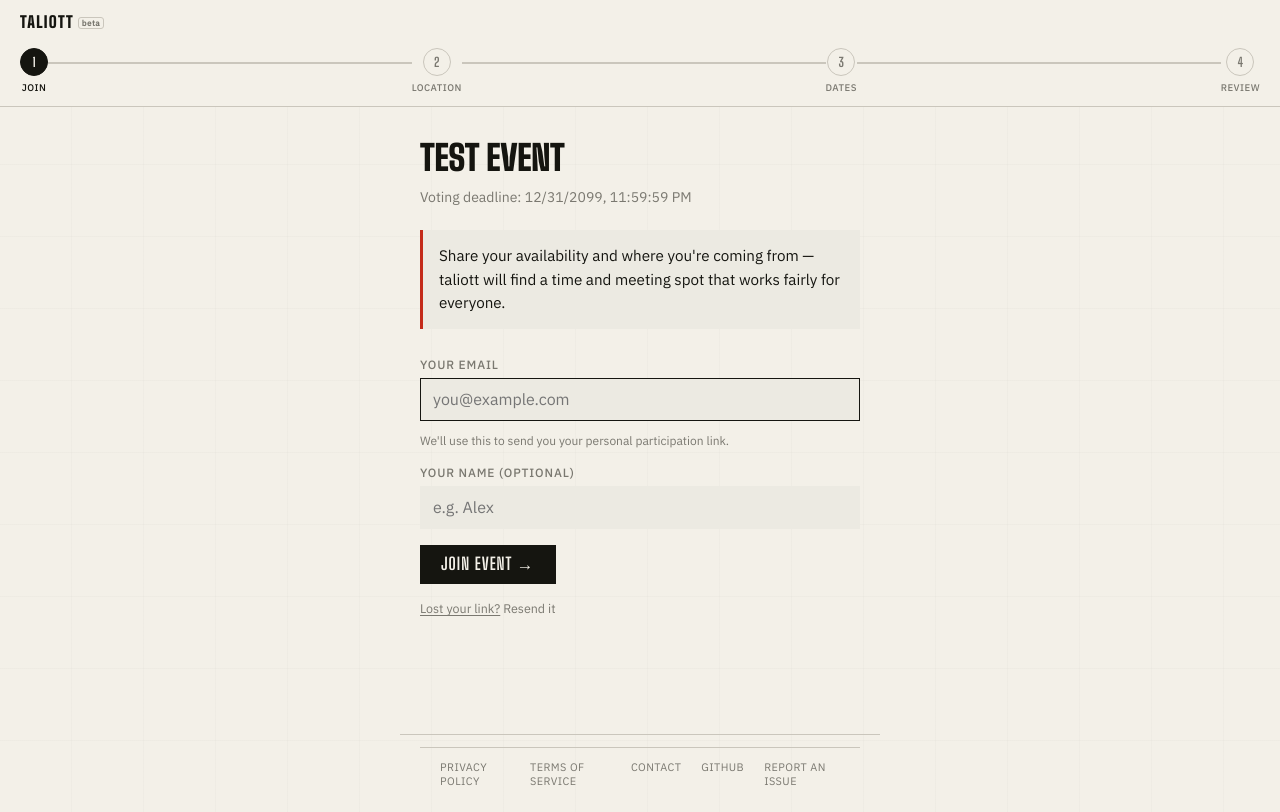
it: JoinView › shows field error when POST returns 400
Type "test@example.com" into the field labelled "Your email".
click(640, 399); type("test@example.com")  # box x1=420 y1=378 x2=860 y2=421
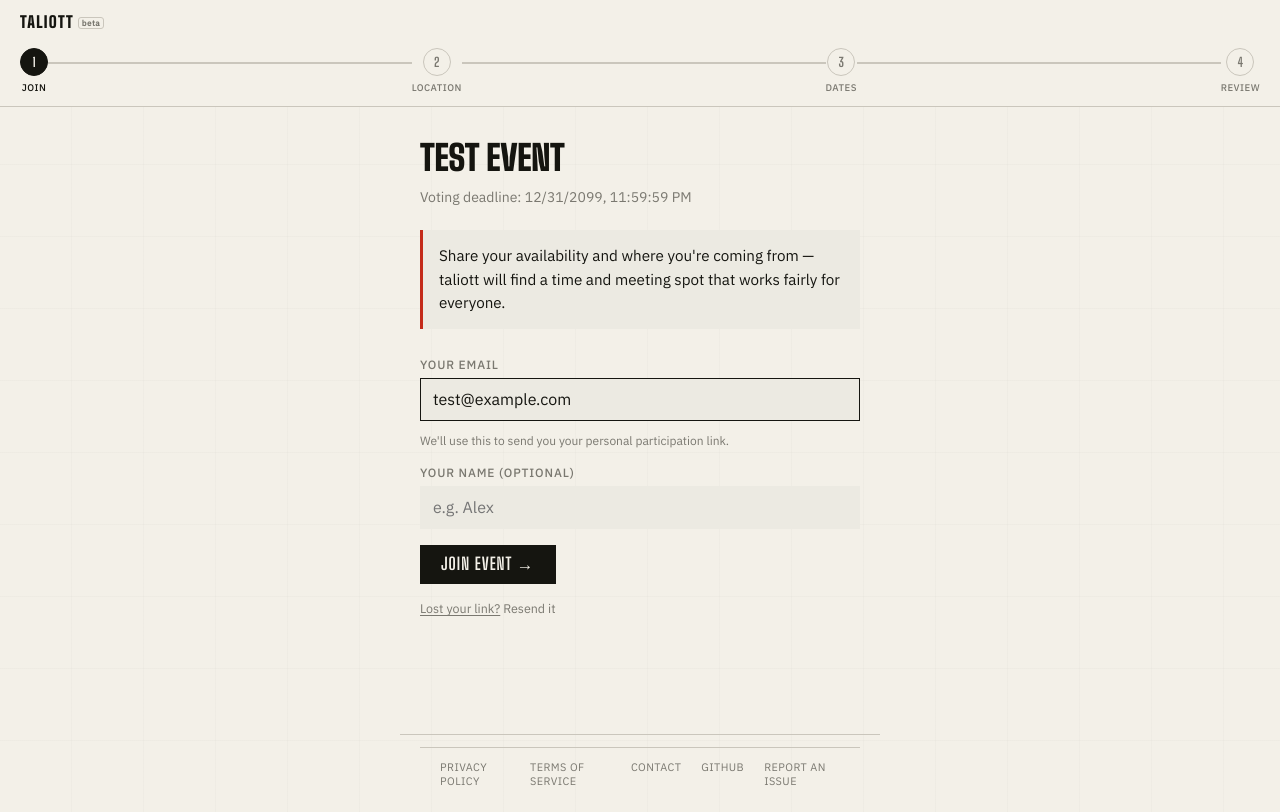
Click the button "Join event →".
click(488, 565)  # box x1=420 y1=545 x2=556 y2=584
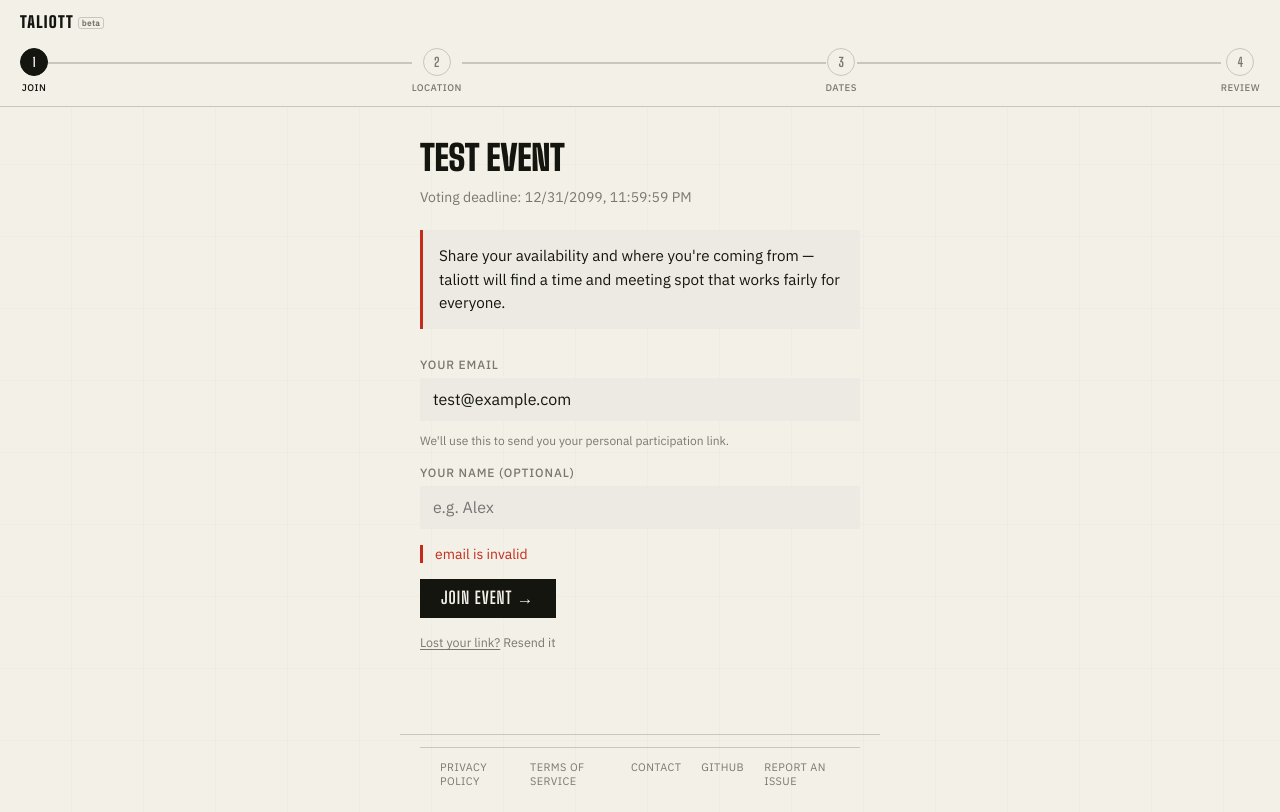
Result: the message reads "email is invalid" at x1=435 y1=545 x2=528 y2=563
